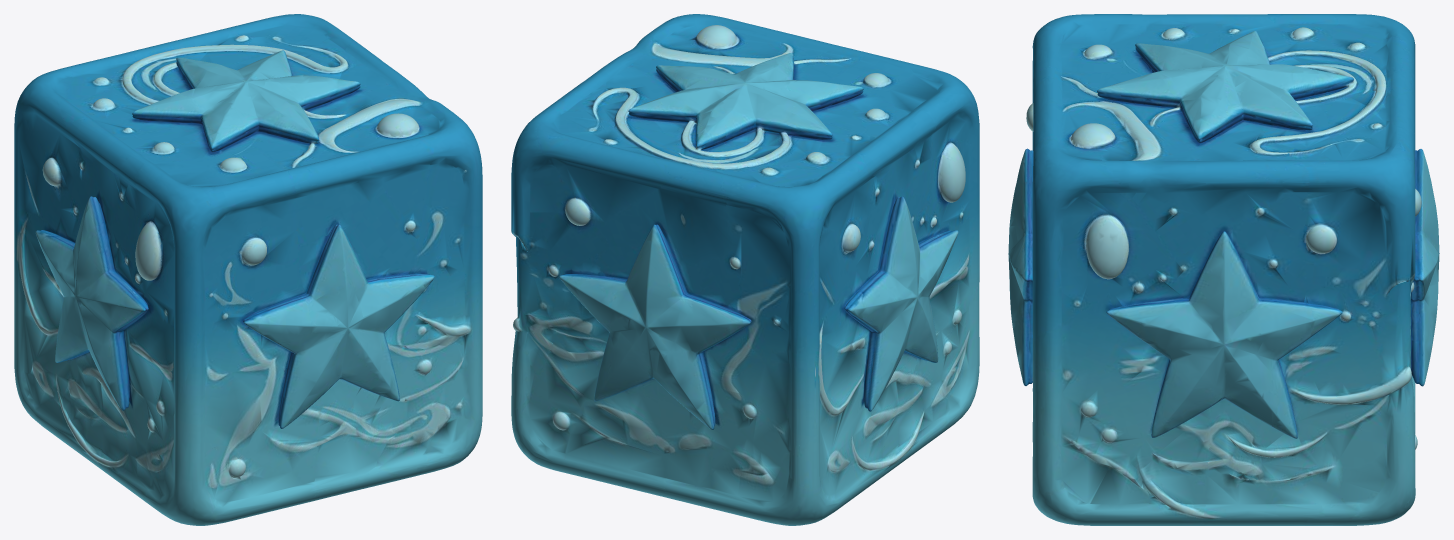
File: water.glb
The picture shows the model from 3 angles, left to right: view 1: azimuth 30°, elevation 25°; view 2: azimuth 150°, elevation 25°; view 3: azimuth 270°, elevation 25°; orthographic projection. The views are drawn at different scales.
Parts seen in each view (by area): view 1: tripo_node_b7393bfb-8c40-4404-979d-7a5f956d446a; view 2: tripo_node_b7393bfb-8c40-4404-979d-7a5f956d446a; view 3: tripo_node_b7393bfb-8c40-4404-979d-7a5f956d446a.
Part boxes in pixels (box(x1,y1,x2,y2)): tripo_node_b7393bfb-8c40-4404-979d-7a5f956d446a: box(14, 14, 482, 525); tripo_node_b7393bfb-8c40-4404-979d-7a5f956d446a: box(511, 14, 979, 525); tripo_node_b7393bfb-8c40-4404-979d-7a5f956d446a: box(1008, 14, 1439, 525).
Bounding box in the file's own units: 0.9584 × 0.98 × 0.9573.
Materials: 1 (1 with a texture image).
